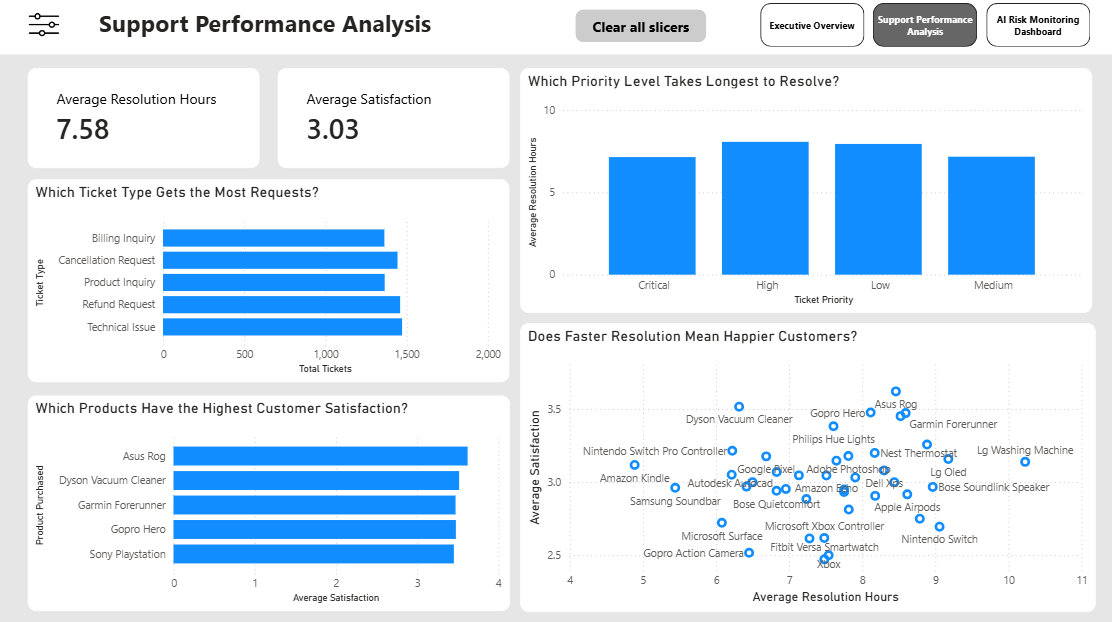

What the dashboard file says about the page in this screenshot:
{"tool":"powerbi","page":{"name":"Support Performance Analysis","canvas":[1280,720],"ordinal":1},"visuals":[{"type":"shape","box":[0,0,1280,720],"z":0},{"type":"shape","box":[0,0,1280,64.4],"z":1000},{"type":"pageNavigator","box":[870,5.6,378.7,51],"z":2000},{"type":"actionButton","box":[33.3,5.6,36.7,50],"z":3000},{"type":"textbox","box":[91.1,5.6,425.6,50],"z":4000},{"type":"cardVisual","fields":{"Data":["Avg(support_tickets_ai_ready.resolution_hours)"]},"box":[32.2,80,264.4,114.4],"z":5000},{"type":"cardVisual","fields":{"Data":["support_tickets_ai_ready.Average Satisfaction"]},"box":[318.9,80,264.4,114.4],"z":6000},{"type":"barChart","title":"Which Ticket Type Gets the Most Requests?","fields":{"Category":["support_tickets_ai_ready.ticket_type"],"Y":["CountNonNull(support_tickets_ai_ready.ticket_id)"]},"box":[33.3,207.8,550,232.2],"z":7000},{"type":"columnChart","title":"Which Priority Level Takes Longest to Resolve?","fields":{"Y":["Avg(support_tickets_ai_ready.resolution_hours)"],"Category":["support_tickets_ai_ready.ticket_priority"]},"box":[595.6,80,653.3,280],"z":8000},{"type":"barChart","title":"Which Products Have the Highest Customer Satisfaction?","fields":{"Category":["support_tickets_ai_ready.product_purchased"],"Y":["support_tickets_ai_ready.Average Satisfaction"]},"box":[33.3,454.4,551.1,246.7],"z":9000},{"type":"scatterChart","title":"Does Faster Resolution Mean Happier Customers?","fields":{"X":["Avg(support_tickets_ai_ready.resolution_hours)"],"Category":["support_tickets_ai_ready.product_purchased"],"Y":["support_tickets_ai_ready.Average Satisfaction"],"Series":["support_tickets_ai_ready.product_purchased"]},"box":[595.6,371.1,657.8,330],"z":10000},{"type":"actionButton","box":[658.9,12.2,150,37.8],"z":18000}]}

Visuals, with their boxes in screenshot pixels (x1, y1, x2, y2), scaled from the page's 1280x720 canvas onto the 1112x622 screenshot:
shape: (0, 0, 1111, 621)
shape: (0, 0, 1111, 56)
pageNavigator: (756, 5, 1085, 49)
actionButton: (29, 5, 61, 48)
textbox: (79, 5, 449, 48)
cardVisual - Avg(support_tickets_ai_ready.resolution_hours): (28, 69, 258, 168)
cardVisual - support_tickets_ai_ready.Average Satisfaction: (277, 69, 507, 168)
"Which Ticket Type Gets the Most Requests?" barChart: (29, 180, 507, 380)
"Which Priority Level Takes Longest to Resolve?" columnChart: (517, 69, 1085, 311)
"Which Products Have the Highest Customer Satisfaction?" barChart: (29, 393, 508, 606)
"Does Faster Resolution Mean Happier Customers?" scatterChart: (517, 321, 1089, 606)
actionButton: (572, 11, 703, 43)
